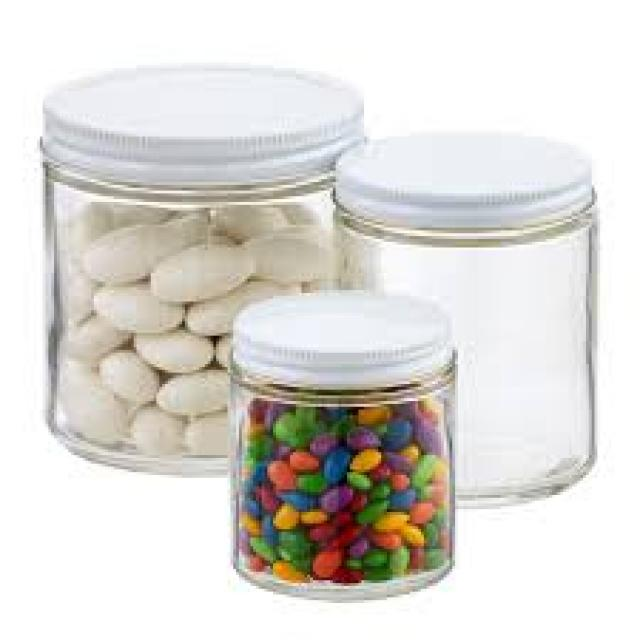organic waste: (236, 398, 444, 580), (151, 242, 253, 301), (88, 278, 179, 336), (57, 364, 122, 441), (82, 216, 160, 279), (245, 225, 341, 273), (122, 324, 210, 376), (150, 364, 228, 418), (208, 202, 284, 245), (63, 196, 128, 245), (62, 313, 120, 361), (100, 347, 156, 395), (128, 398, 179, 449), (148, 208, 210, 245), (185, 285, 239, 327), (179, 407, 228, 452), (60, 259, 94, 321), (273, 199, 321, 225), (213, 330, 230, 367)
